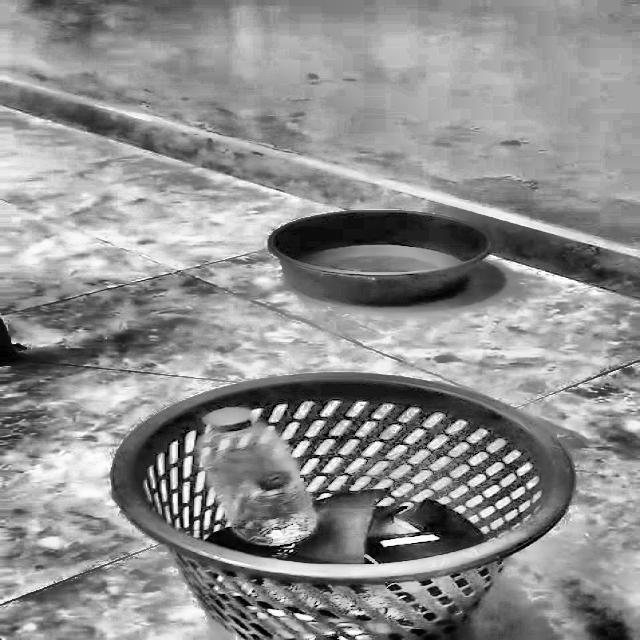Bottle-Disposed: (134, 382, 590, 568)
Plastic-Bottle: (192, 408, 332, 549)
